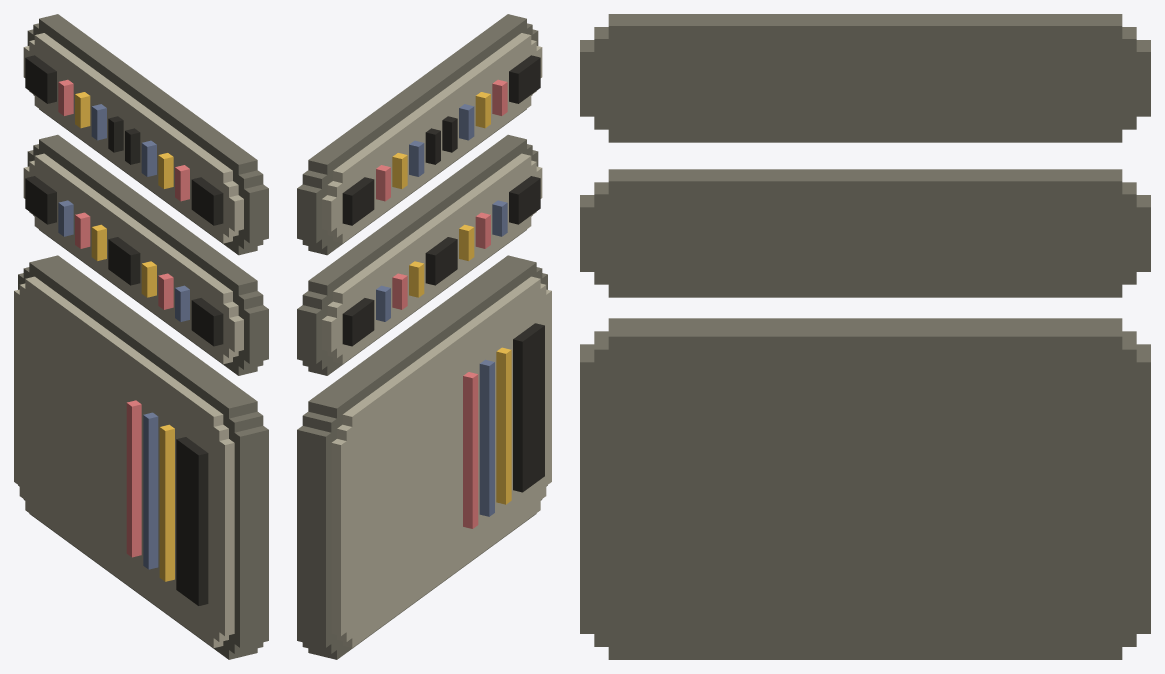
The model's file is factory4.4-10.obj.
3 renders of one model, left to right at view 1: azimuth 30°, elevation 25°; view 2: azimuth 150°, elevation 25°; view 3: azimuth 270°, elevation 25°, orthographic. The views are drawn at different scales.
Bounding box in the file's own units: 0.5 × 4.9 × 4.
1 material, 1 textured.
